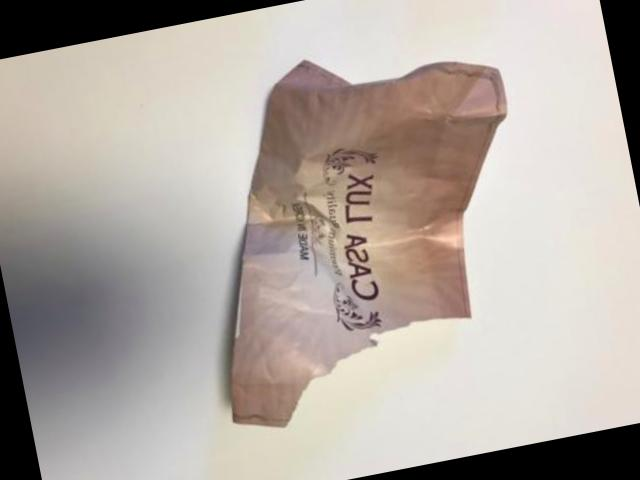cardboard paper: (231, 58, 506, 422)
